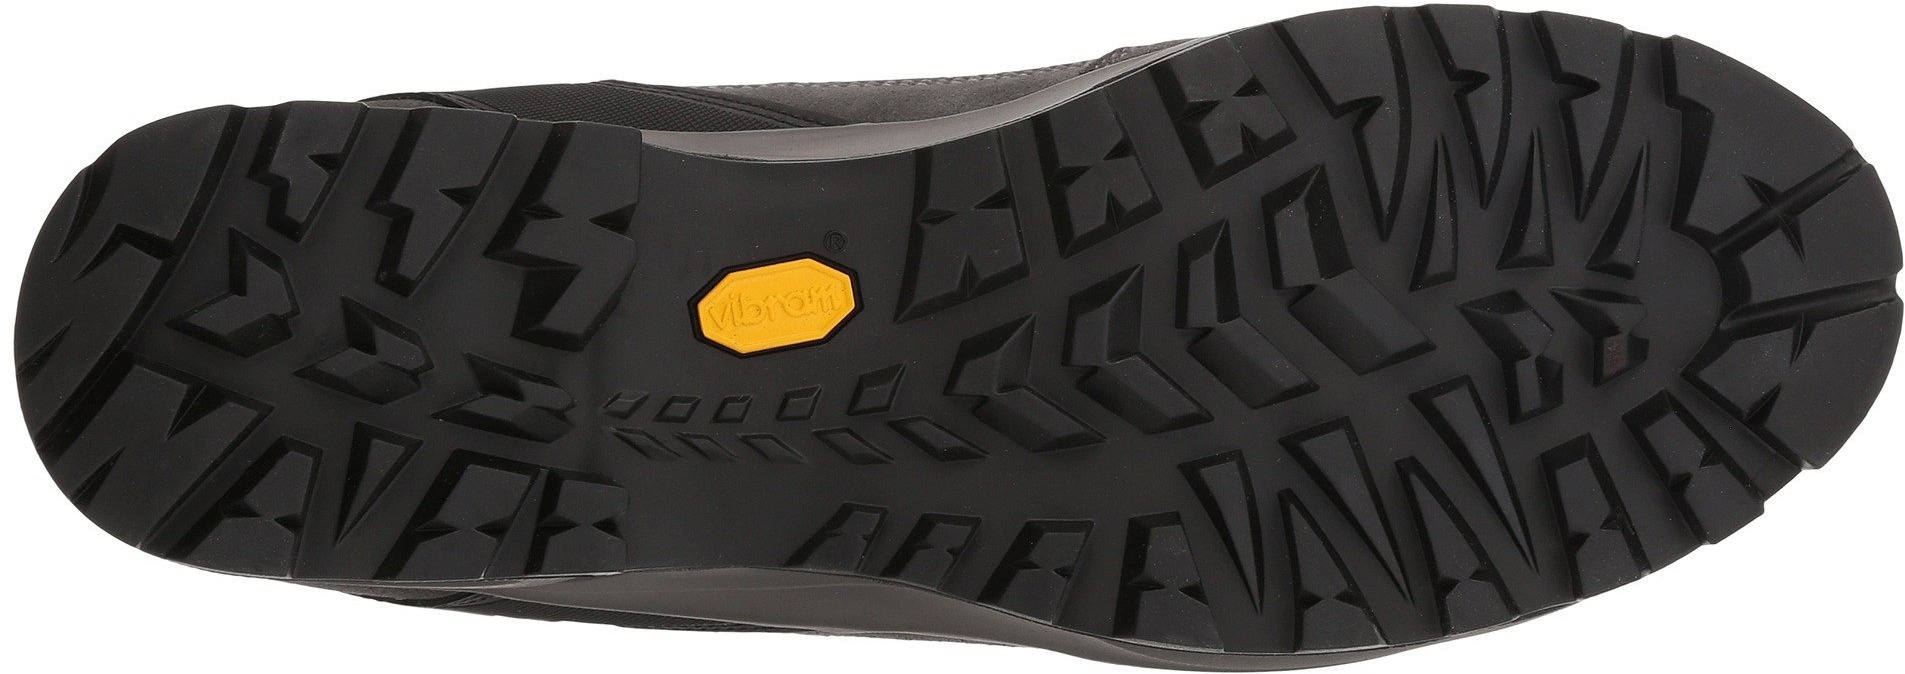bowtie: (426, 401, 627, 576)
chevron: (1411, 56, 1664, 285)
text: (778, 270, 860, 330), (739, 283, 787, 330)
